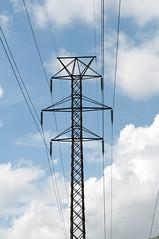power_tower: (36, 49, 115, 239)
